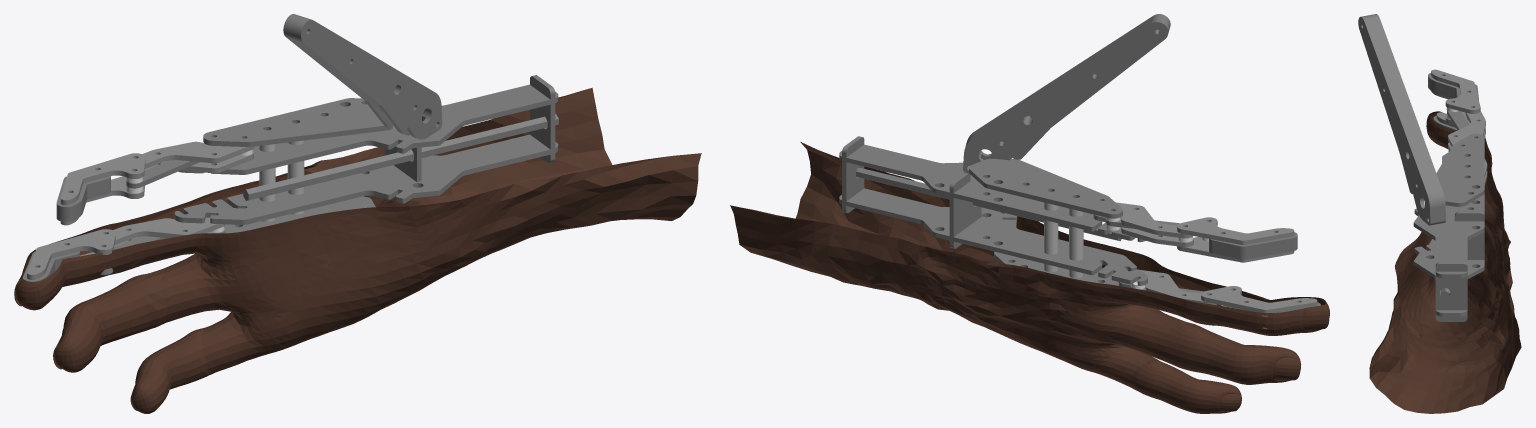
The model's file is FunctionalHand_V2.glb.
3 views of the same model, side by side, from view 1: azimuth 30°, elevation 25°; view 2: azimuth 150°, elevation 25°; view 3: azimuth 270°, elevation 25° (orthographic). The views are drawn at different scales.
Visible parts, largest first — view 1: Clean_FunctionalHand_v21_assembly_v20; view 2: Clean_FunctionalHand_v21_assembly_v20; view 3: Clean_FunctionalHand_v21_assembly_v20.
Boxes of the visible parts, bbox=[...] form: Clean_FunctionalHand_v21_assembly_v20: bbox=[14, 14, 701, 413]; Clean_FunctionalHand_v21_assembly_v20: bbox=[730, 14, 1329, 413]; Clean_FunctionalHand_v21_assembly_v20: bbox=[1358, 14, 1521, 413].
Bounding box in the file's own units: 271 × 158 × 76.62.
